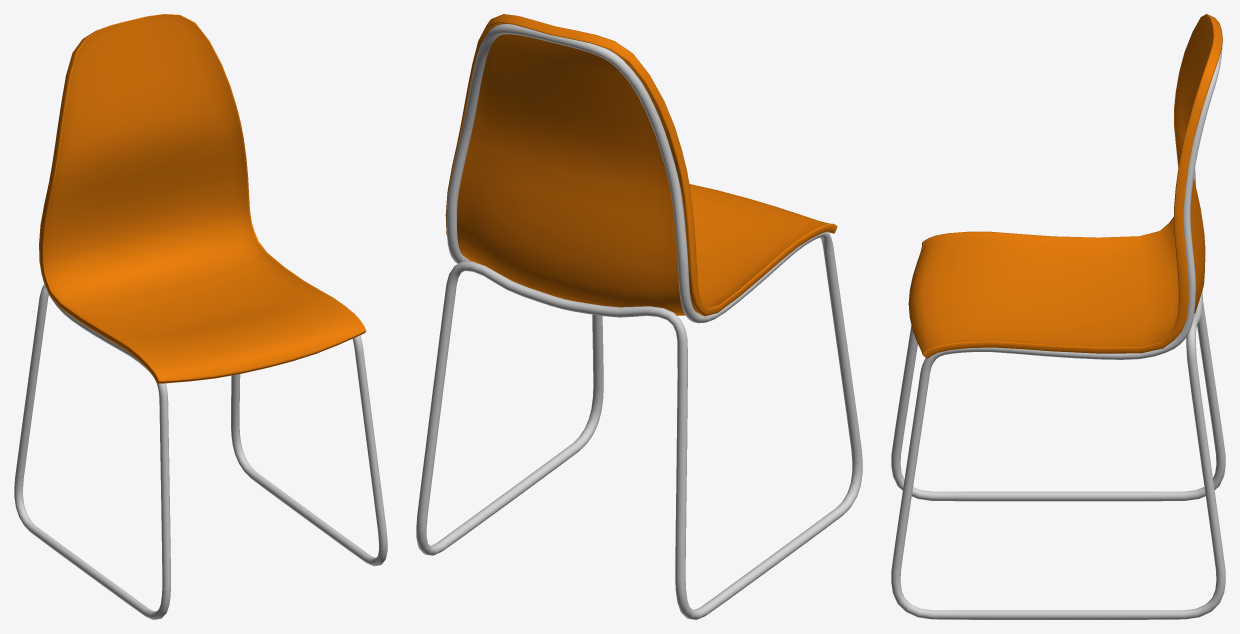
Rendered from sh_scopia_plastic_chair.glb.
3 views of the same model, side by side, from view 1: azimuth 30°, elevation 25°; view 2: azimuth 150°, elevation 25°; view 3: azimuth 270°, elevation 25° (orthographic). The views are drawn at different scales.
Size of the model in its own units: 0.483 by 0.965 by 0.557.
